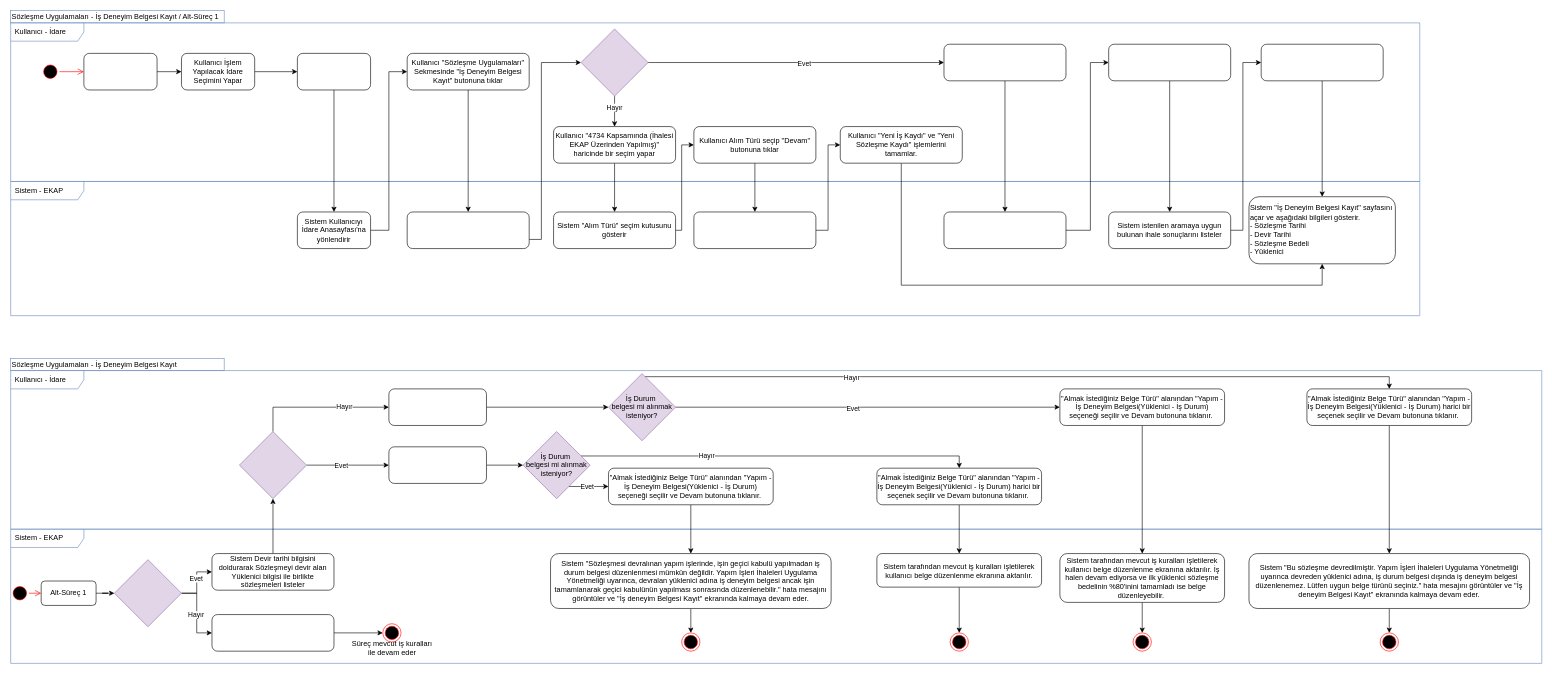
Image size: 1552x674. Some labels were removed from this diagram. The centre of each missing label's shape, as x and y in pixels:
Devir alan yüklenici için mi belge alınmak isteniyor?: point (273, 465)
EKAP Giriş: point (120, 71)
İş 4734 Kapsamında EKAP üzerinden mi yapılmış?: point (614, 62)
İşlemlere Devam Et Butonuna tıklanır: point (334, 71)
Kullanıcı "4734 Kapsamında (İhalesi EKAP Üzerinden Yapılmış)" seçimini yapar: point (1004, 62)
Kullanıcı "Ara" butonuna tıklar. (Filtreleme işlemi yapılabilir): point (1169, 62)
Kullanıcı "Sözleşme İmzalanmış" durumunda bir ihale seçer: point (1322, 62)
Kullanıcı İşlem yapmak istediği sözleşme ve Devir almış olan yükleniciyi seçer: point (437, 464)
Kullanıcı sözleşmeyi devir etmiş olan yüklenici ve sözleşmesini seçer: point (437, 406)
Seçilen ihale üzerinde devir işlemi yapılmış mı?: point (147, 593)
Sistem "Diğer Kapsam İş Deneyim İşleri" sayfasını açar: point (754, 230)
Sistem "İş Deneyim Belgesi Kapsam Seçim" sayfasını açar: point (468, 230)
Sistem devir tarihi boş bir şekilde ilgili sözleşmeleri listeler: point (272, 632)
Sistem kullanıcıyı ihale arama sayfasına yönlendirir.: point (1004, 230)
